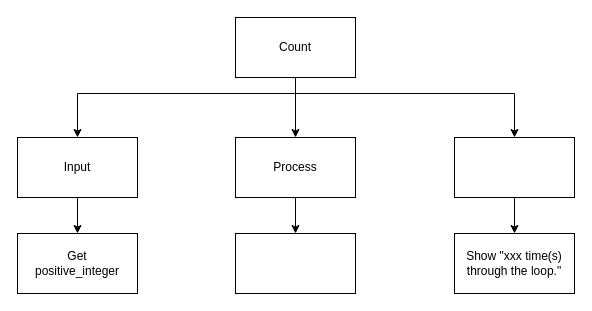
The diagram is 592 pixels wide and 311 high, and some of its shapes have lost their labels. Here are the shapes that lost their labels. From the top down, the centre of each, then its label:
At (514,167): "Output".
At (295,263): "Count through numbers".
